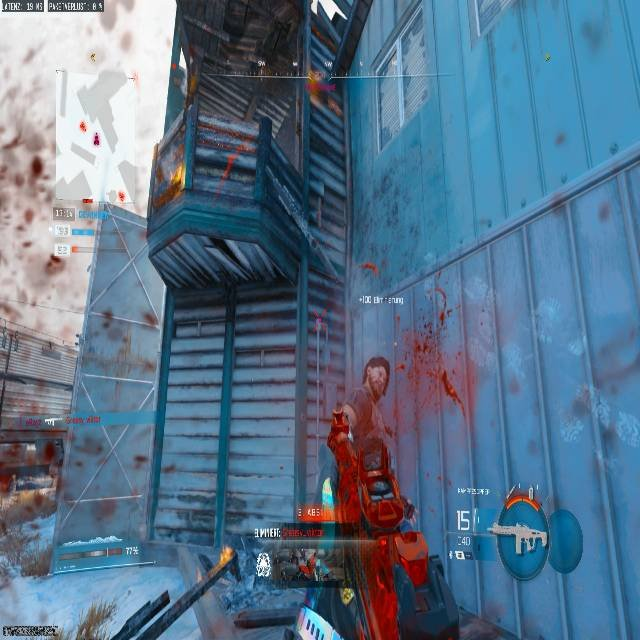head: (361, 356, 391, 394)
player: (328, 354, 400, 510)
